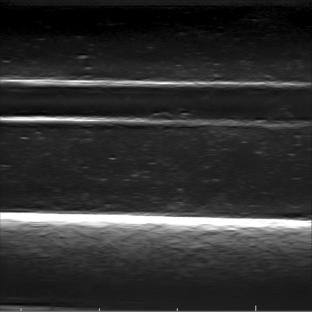vessel: (3, 79, 311, 128)
